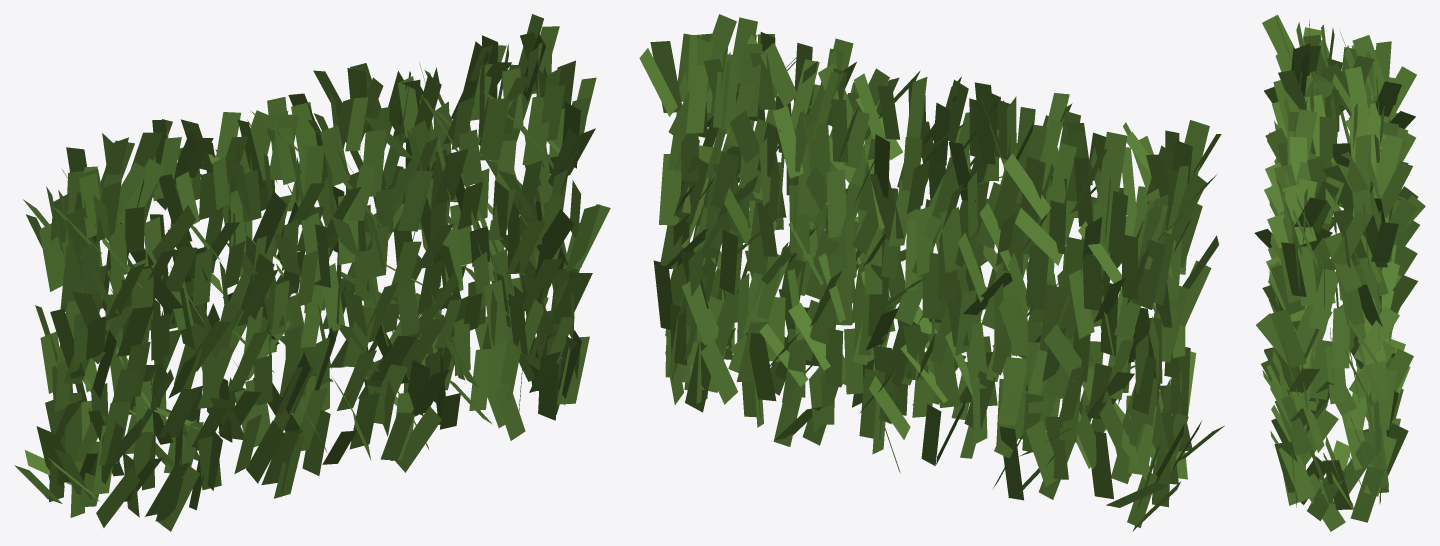
The model's file is WallHedge2.glb.
3 views of the same model, side by side, from view 1: azimuth 30°, elevation 25°; view 2: azimuth 150°, elevation 25°; view 3: azimuth 270°, elevation 25° (orthographic). The views are drawn at different scales.
Visible parts, largest first — view 1: WallHedge2; view 2: WallHedge2; view 3: WallHedge2.
Boxes of the visible parts, <box> form: WallHedge2: <box>14,14,610,531</box>; WallHedge2: <box>639,14,1224,531</box>; WallHedge2: <box>1254,15,1425,531</box>.
Size of the model in its own units: 5.28 by 3.43 by 1.65.
